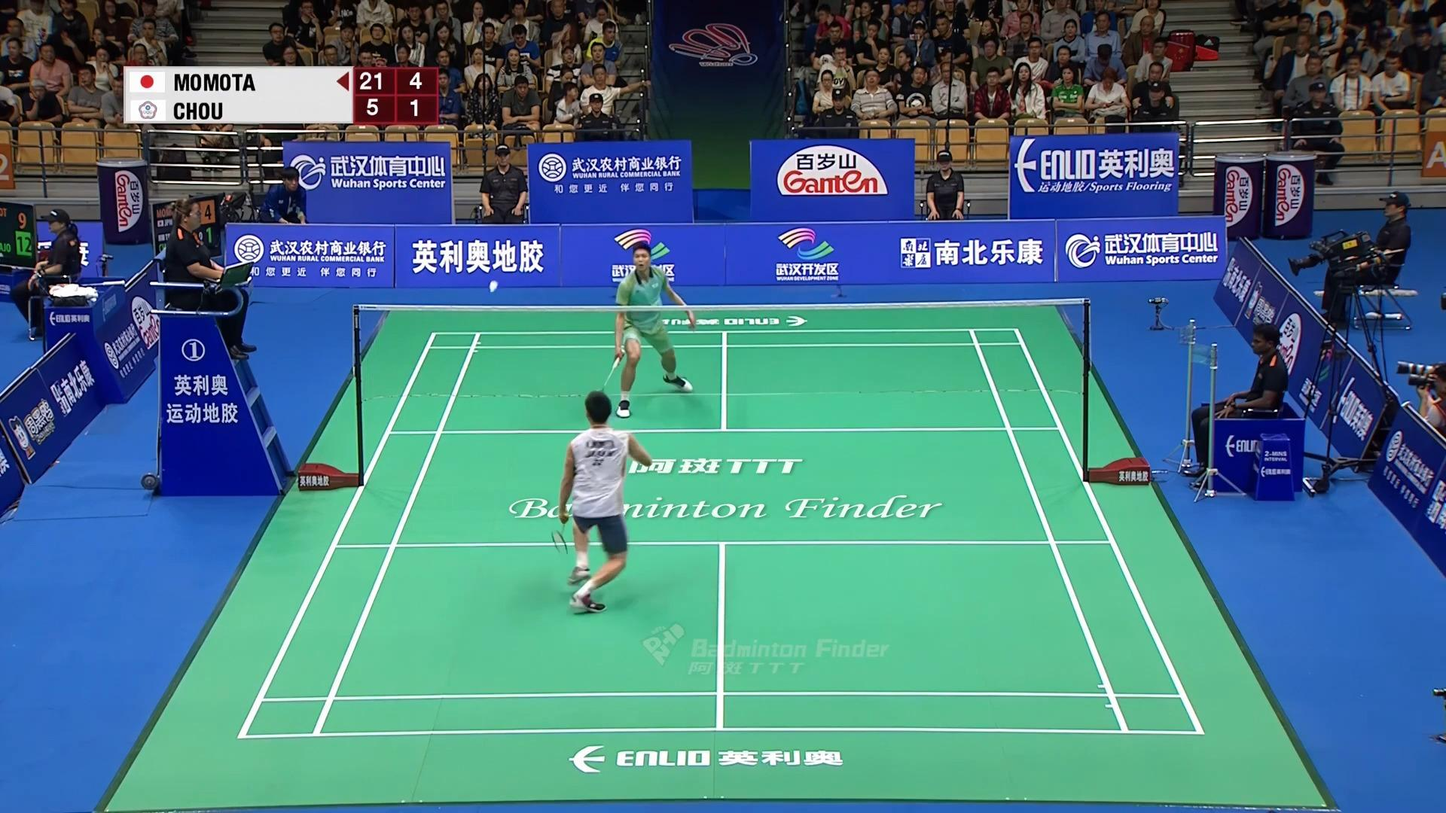player: (559, 391, 654, 614), (612, 241, 697, 418)
shuttlecock: (489, 280, 499, 293)
